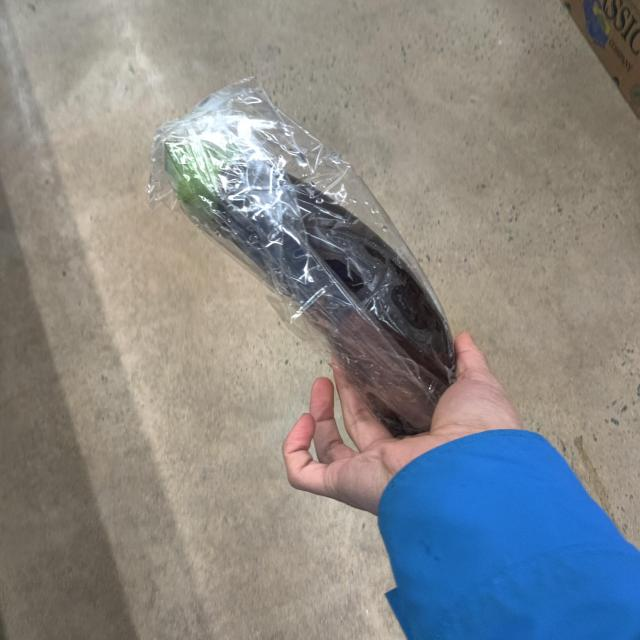Eggplant: (141, 120, 462, 442)
